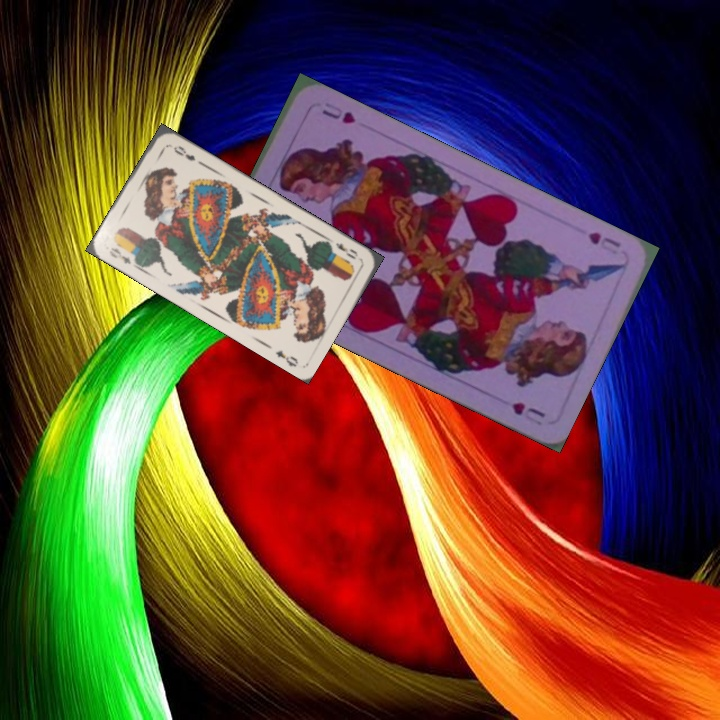EO: (105, 243, 134, 267), (332, 239, 360, 262)
HU: (584, 228, 623, 257)
